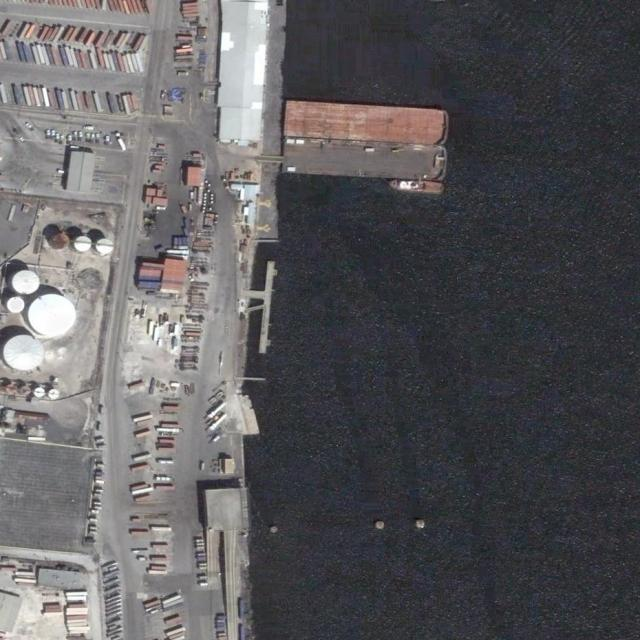Container Ship: (282, 99, 450, 146)
Dock: (259, 260, 277, 354)
Other Ship: (387, 179, 444, 194)
